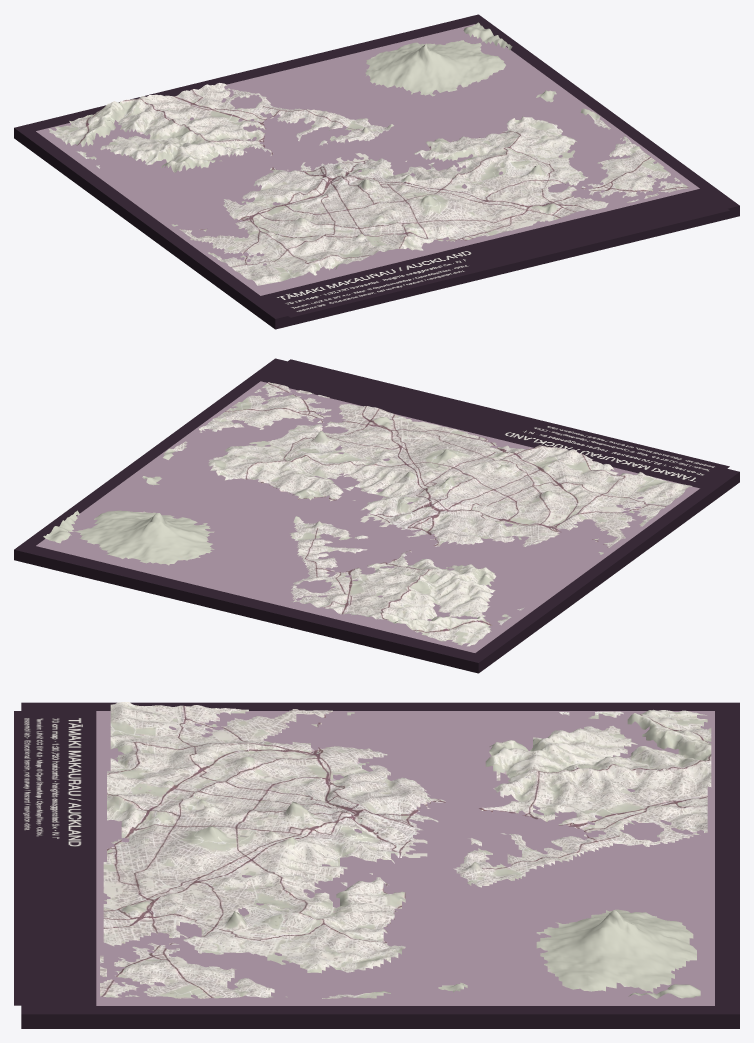
The model's file is auckland-tabletop.glb.
3 renders of one model, top to bottom at view 1: azimuth 30°, elevation 25°; view 2: azimuth 150°, elevation 25°; view 3: azimuth 270°, elevation 25°, orthographic. The views are drawn at different scales.
Parts seen in each view (by area): view 1: LINZ_bare_earth_5x_vertical_exaggeration, Mapped_water_background_not_bathymetry, Presentation_plinth_not_geographic, Scale_and_source_plaque; view 2: LINZ_bare_earth_5x_vertical_exaggeration, Mapped_water_background_not_bathymetry, Presentation_plinth_not_geographic, Scale_and_source_plaque; view 3: LINZ_bare_earth_5x_vertical_exaggeration, Mapped_water_background_not_bathymetry, Presentation_plinth_not_geographic, Scale_and_source_plaque.
Part boxes in pixels (box(x1,y1,x2,y2)): LINZ_bare_earth_5x_vertical_exaggeration: box(49, 22, 689, 285); Mapped_water_background_not_bathymetry: box(36, 24, 699, 295); Presentation_plinth_not_geographic: box(14, 14, 739, 329); Scale_and_source_plaque: box(264, 190, 729, 317); LINZ_bare_earth_5x_vertical_exaggeration: box(43, 382, 692, 646); Mapped_water_background_not_bathymetry: box(36, 381, 699, 652); Presentation_plinth_not_geographic: box(14, 358, 739, 673); Scale_and_source_plaque: box(263, 359, 729, 486); LINZ_bare_earth_5x_vertical_exaggeration: box(100, 702, 711, 998); Mapped_water_background_not_bathymetry: box(96, 711, 714, 1005); Presentation_plinth_not_geographic: box(21, 702, 739, 1028); Scale_and_source_plaque: box(14, 711, 88, 1005).
Bounding box in the file's own units: 0.74 × 0.0582 × 0.7283.
Materials: 4 (2 with a texture image).
